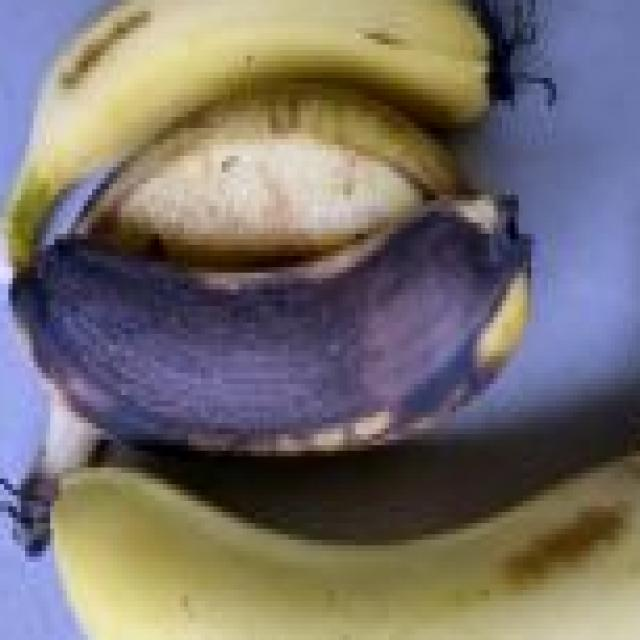Bad_Banana-0 day: (13, 200, 529, 455)
Good_Banana-2-3 days: (48, 404, 640, 640), (2, 0, 489, 277)
